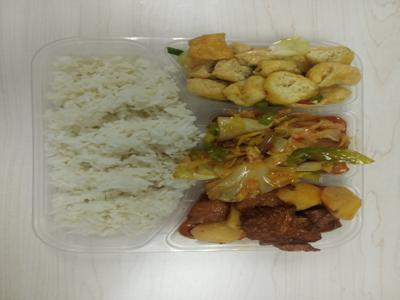jrtd: (188, 181, 367, 260)
rice: (42, 53, 184, 250)
